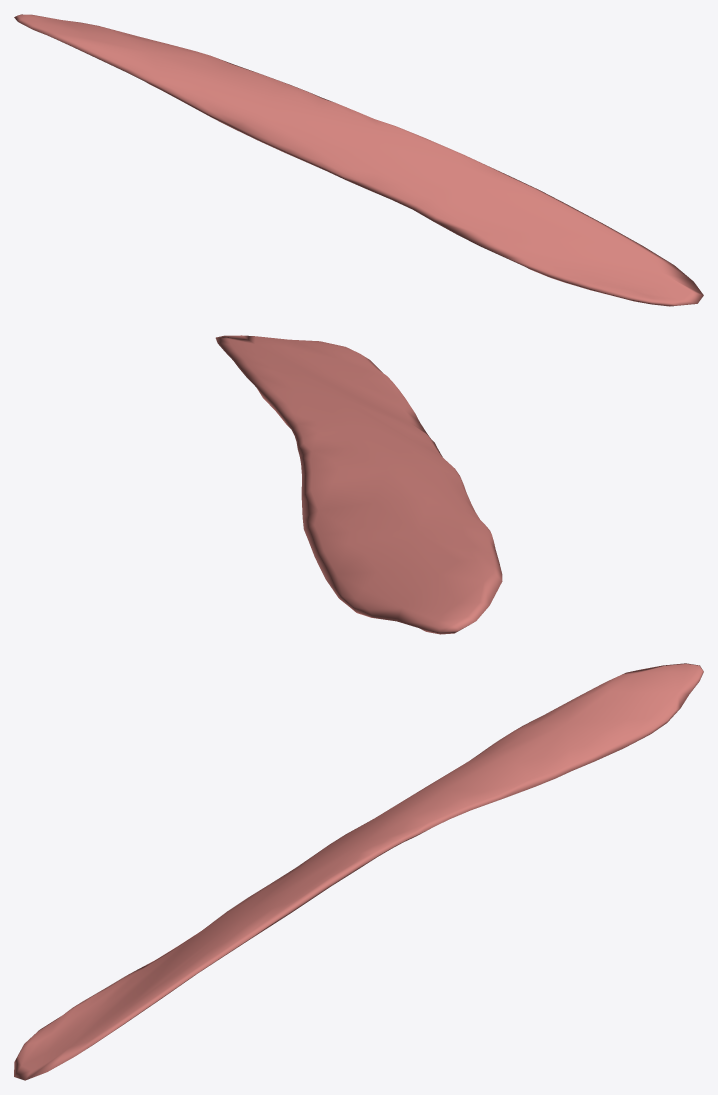
The picture shows the model from 3 angles, top to bottom: view 1: azimuth 30°, elevation 25°; view 2: azimuth 150°, elevation 25°; view 3: azimuth 270°, elevation 25°; orthographic projection. The views are drawn at different scales.
Visible parts, largest first — view 1: ZA_b58922e816eef113; view 2: ZA_b58922e816eef113; view 3: ZA_b58922e816eef113.
Part boxes in pixels (<box>): ZA_b58922e816eef113: <box>14,14,703,306</box>; ZA_b58922e816eef113: <box>215,335,502,634</box>; ZA_b58922e816eef113: <box>14,663,703,1080</box>.
Bounding box in the file's own units: 0.0325 × 0.0129 × 0.0416.
